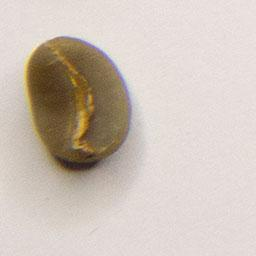premium: (23, 32, 135, 170)
